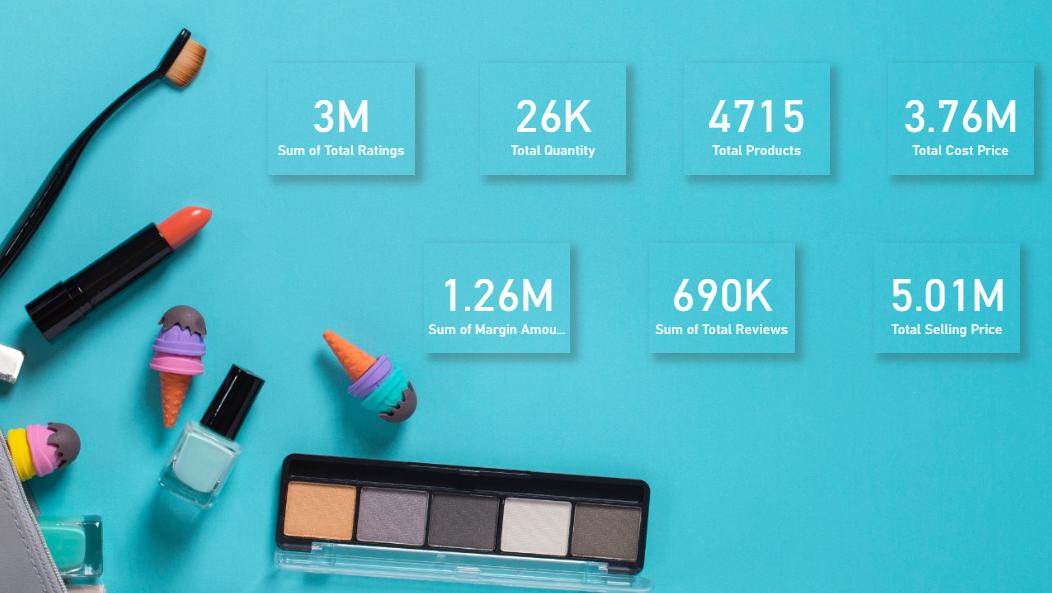

This screenshot's page, from the dashboard's own definition file:
{"tool":"powerbi","page":{"name":"Page 1","canvas":[1280,720],"ordinal":0},"visuals":[{"type":"card","title":"Ratings","fields":{"Values":["FactSales.Total of Ratings"]},"box":[337.6,135.8,207.2,102.9],"z":0},{"type":"card","title":"Quantity","fields":{"Values":["FactSales.Total Quantity"]},"box":[569.5,135.8,207.2,102.9],"z":1000},{"type":"card","title":"Margin Amount","fields":{"Values":["FactSales.Total Margin Amount"]},"box":[506.3,284,207.2,108.4],"z":2000},{"type":"card","title":"Products","fields":{"Values":["FactSales.Total Products"]},"box":[1044.3,135.8,207.2,102.9],"z":3000},{"type":"card","title":"Selling Price","fields":{"Values":["FactSales.Total Selling Price"]},"box":[752,284,207.2,108.4],"z":4000},{"type":"card","title":"Reviews","fields":{"Values":["FactSales.Total of Reviews"]},"box":[988,284,207.2,108.4],"z":5000},{"type":"card","title":"Cost Price","fields":{"Values":["FactSales.Total Cost Price"]},"box":[800,137.2,207.2,102.9],"z":6000}]}

Visuals, with their boxes in screenshot pixels (x1, y1, x2, y2), scaled from the page's 1280x720 canvas onto the 1052x593 screenshot:
"Ratings" card: 277:112:448:197
"Quantity" card: 468:112:638:197
"Margin Amount" card: 416:234:586:323
"Products" card: 858:112:1029:197
"Selling Price" card: 618:234:788:323
"Reviews" card: 812:234:982:323
"Cost Price" card: 658:113:828:198
